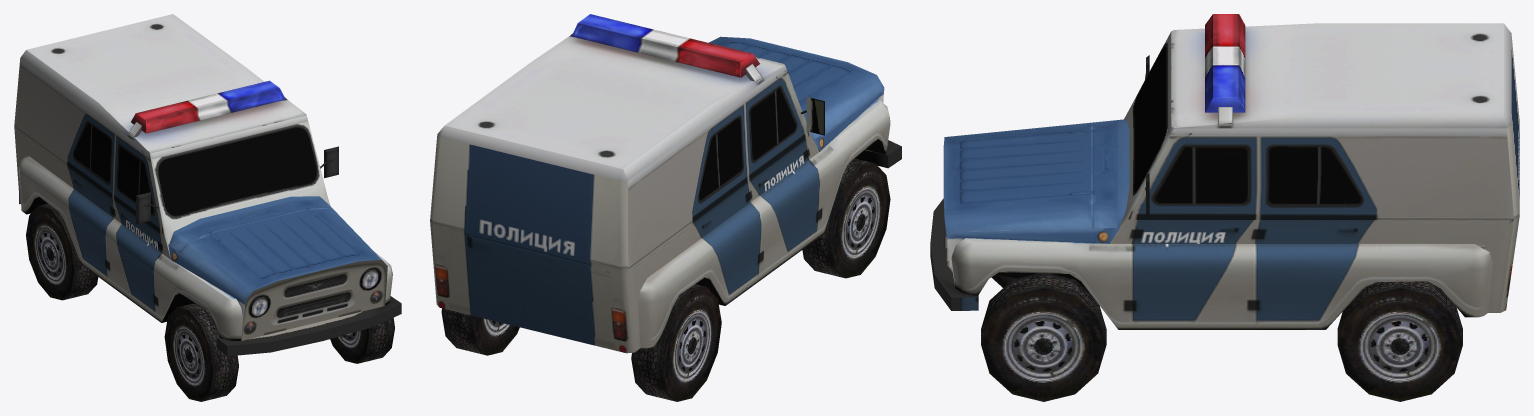
The model's file is uaz_police.glb.
3 views of the same model, side by side, from view 1: azimuth 30°, elevation 25°; view 2: azimuth 150°, elevation 25°; view 3: azimuth 270°, elevation 25° (orthographic). The views are drawn at different scales.
Visible parts, largest first — view 1: _MeshInstance3D_130, _MeshInstance3D_132, _MeshInstance3D_131, _MeshInstance3D_133; view 2: _MeshInstance3D_130, _MeshInstance3D_131, _MeshInstance3D_132, _MeshInstance3D_134; view 3: _MeshInstance3D_130, _MeshInstance3D_133, _MeshInstance3D_134.
Boxes of the visible parts, bbox=[...] form: _MeshInstance3D_130: bbox=[14, 14, 401, 356]; _MeshInstance3D_132: bbox=[164, 303, 238, 401]; _MeshInstance3D_131: bbox=[26, 203, 98, 300]; _MeshInstance3D_133: bbox=[330, 317, 394, 363]; _MeshInstance3D_130: bbox=[430, 14, 901, 353]; _MeshInstance3D_131: bbox=[631, 284, 721, 401]; _MeshInstance3D_132: bbox=[802, 158, 890, 278]; _MeshInstance3D_134: bbox=[441, 308, 519, 355]; _MeshInstance3D_130: bbox=[930, 14, 1519, 329]; _MeshInstance3D_133: bbox=[981, 273, 1106, 401]; _MeshInstance3D_134: bbox=[1337, 281, 1462, 401].
Size of the model in its own units: 1.96 by 2.08 by 3.84.
Materials: 3 (2 with a texture image).
